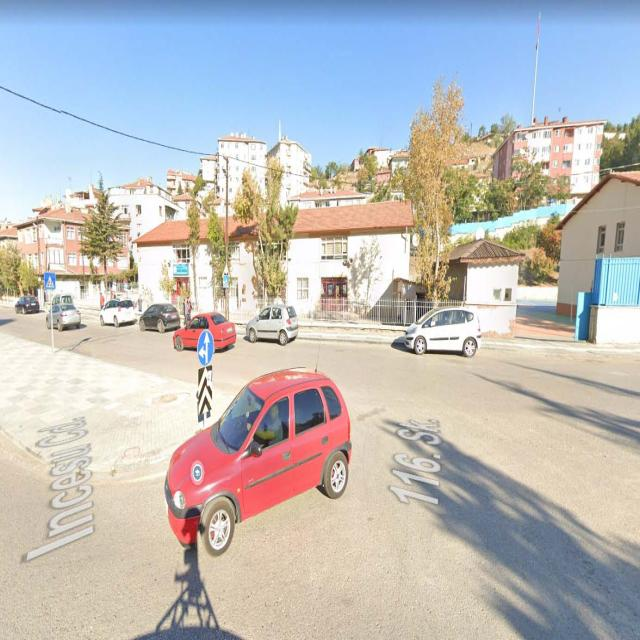ilerisol: (196, 329, 214, 362)
